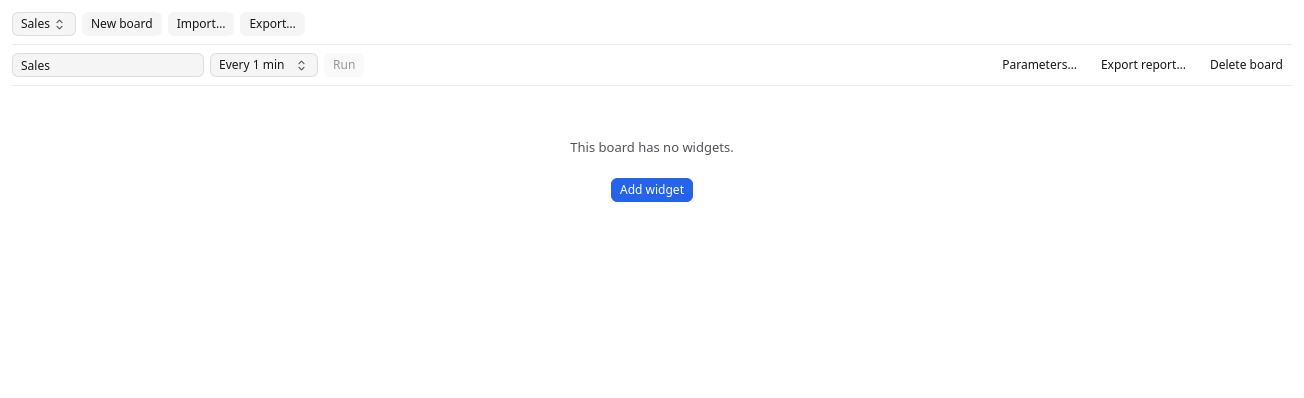
Scenario: offers one clear Add widget action on an empty board
Click the button "Add widget" at (652, 190), box [611,178,693,202]
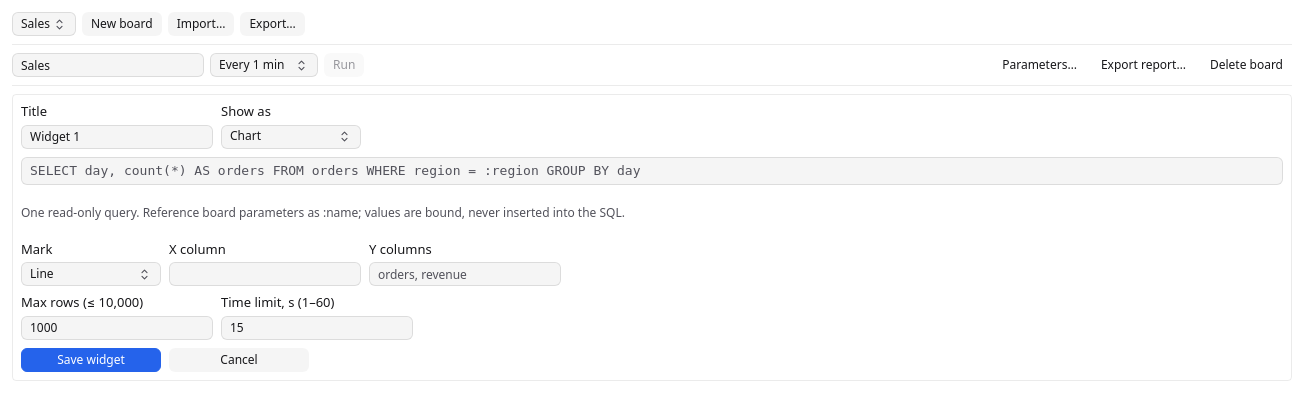
Expected: the element named "Edit widget" is shown
